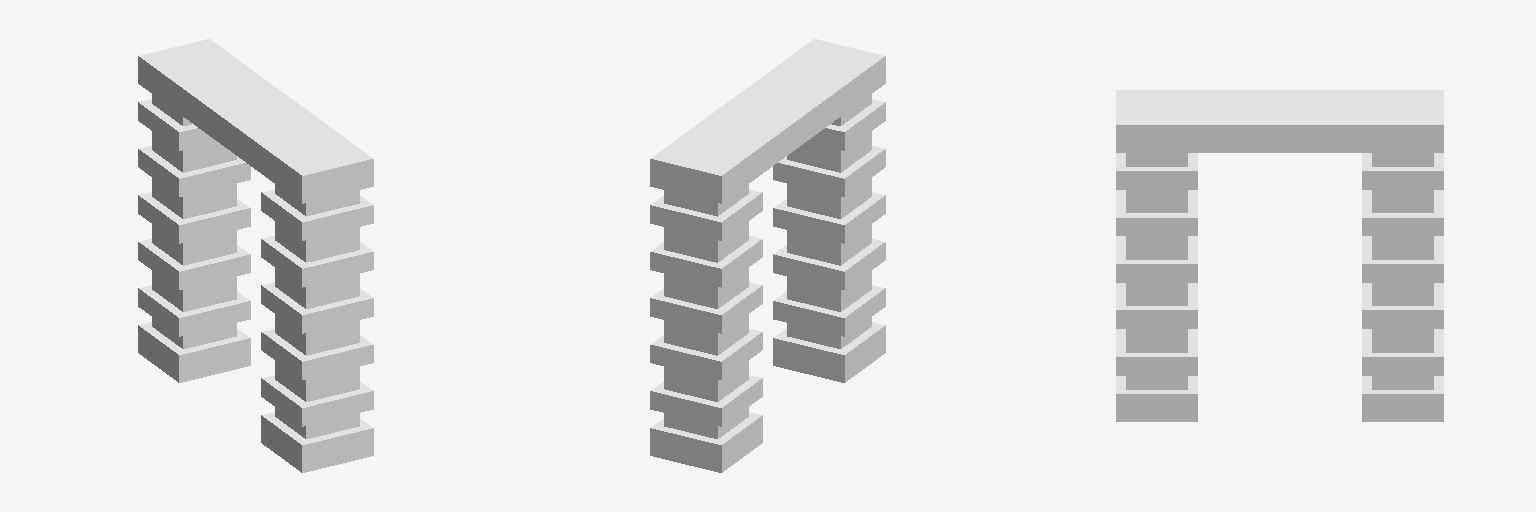
File: gateway.obj
The picture shows the model from 3 angles: view 1: azimuth 30°, elevation 25°; view 2: azimuth 150°, elevation 25°; view 3: azimuth 270°, elevation 25°; orthographic projection.
Visible parts, largest first — view 1: object 1; view 2: object 1; view 3: object 1.
Part boxes in pixels (x1,y1,x2,y2): object 1: (138,39,373,472); object 1: (650,39,885,472); object 1: (1116,90,1443,421).
Size of the model in its own units: 0.8 by 3.2 by 3.2.